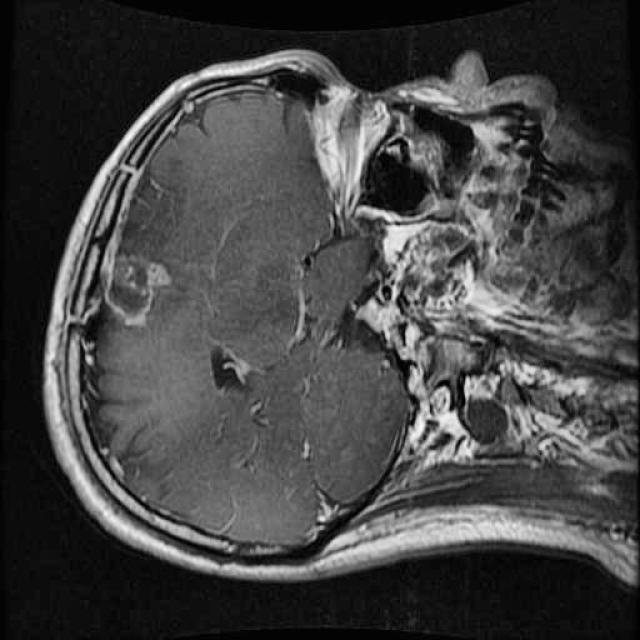Non-Tumor: (94, 238, 186, 336)
